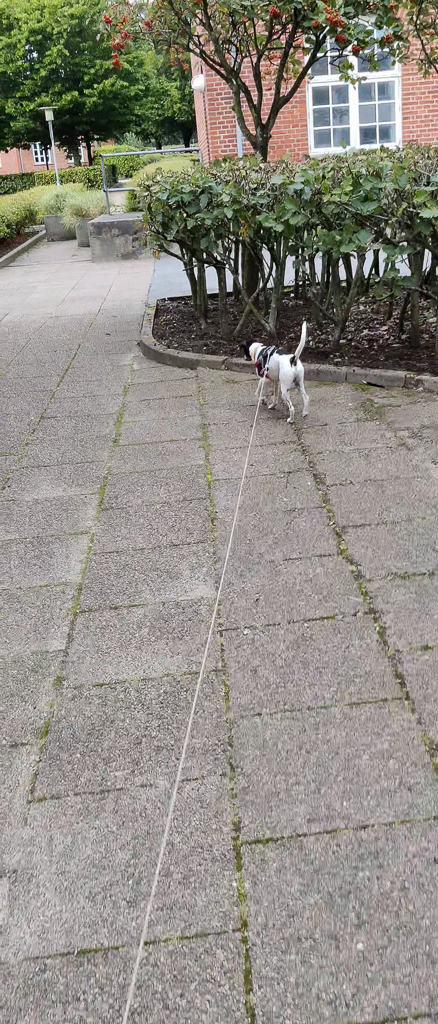Dog: (238, 312, 323, 428)
